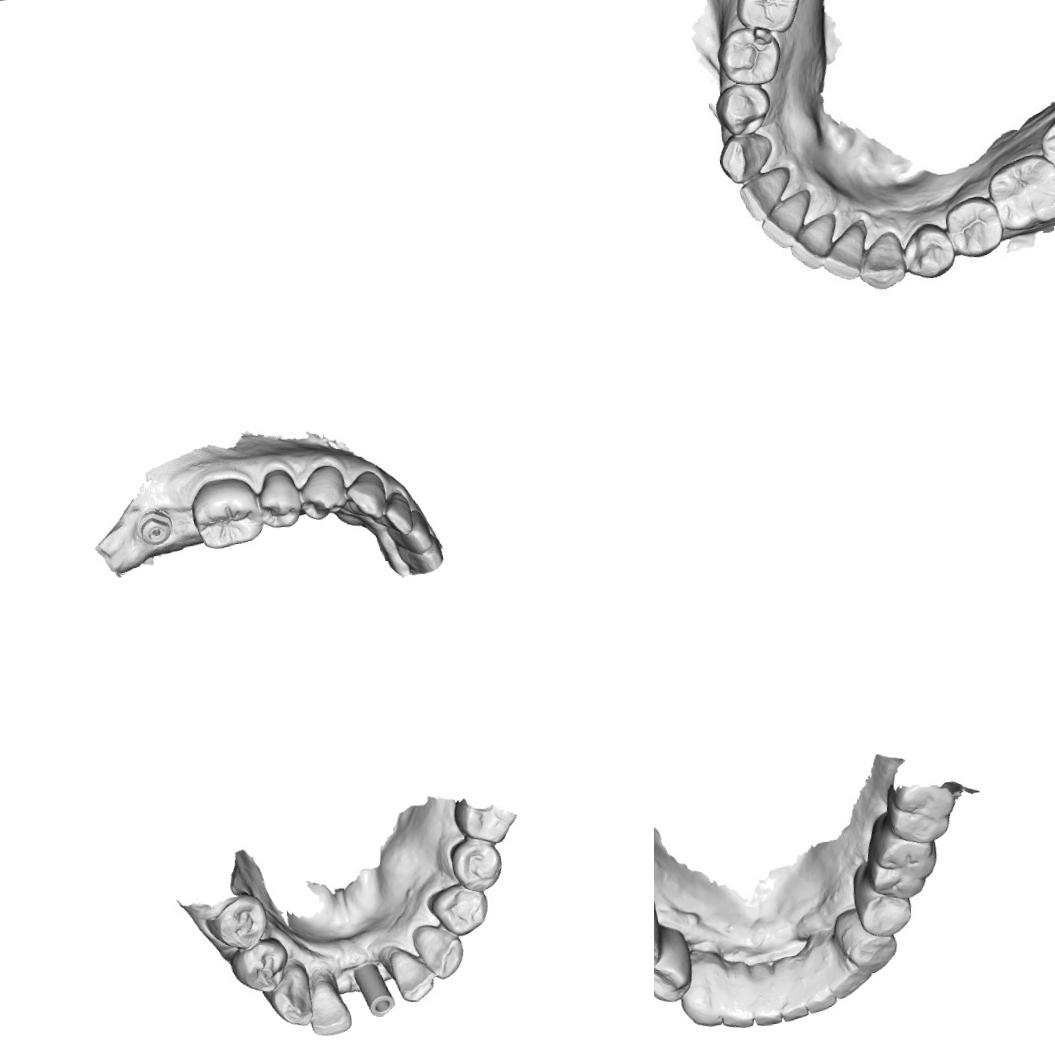canine: (424, 878, 490, 938), (674, 948, 723, 1028), (259, 958, 314, 1028), (716, 130, 779, 185), (857, 229, 909, 292), (342, 467, 389, 523), (824, 954, 874, 1001)
implant: (350, 958, 396, 1020)
implant_minus: (132, 505, 174, 548)
incisor: (376, 939, 438, 1004), (784, 210, 846, 272), (758, 188, 819, 250), (305, 963, 353, 1038), (408, 920, 466, 982), (734, 164, 791, 224), (818, 220, 866, 286), (716, 958, 754, 1029), (775, 954, 809, 1022), (748, 960, 782, 1026), (388, 516, 434, 556), (801, 964, 837, 1014), (380, 488, 414, 538)
molar: (860, 807, 940, 902), (186, 473, 266, 552), (984, 149, 1055, 234), (882, 776, 958, 846), (731, 0, 803, 34), (1032, 96, 1055, 189)
premolar: (848, 856, 914, 940), (830, 903, 900, 977), (202, 888, 271, 954), (714, 22, 784, 86), (941, 192, 1006, 258), (228, 934, 290, 996), (452, 794, 518, 847), (714, 78, 773, 137), (900, 220, 958, 280), (447, 834, 504, 894), (654, 922, 695, 1005), (296, 462, 348, 522), (256, 466, 304, 530)
